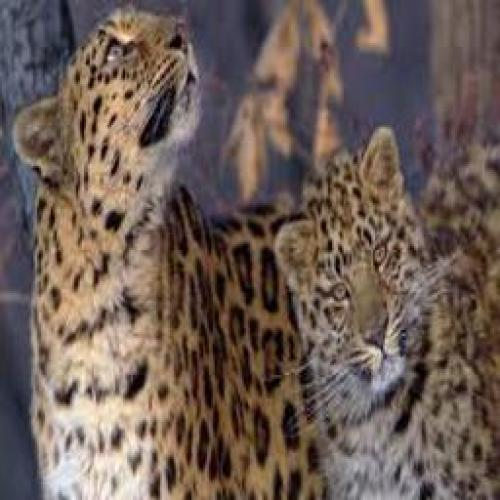amur_leopard-endangered: (9, 2, 310, 498), (272, 123, 500, 500)
